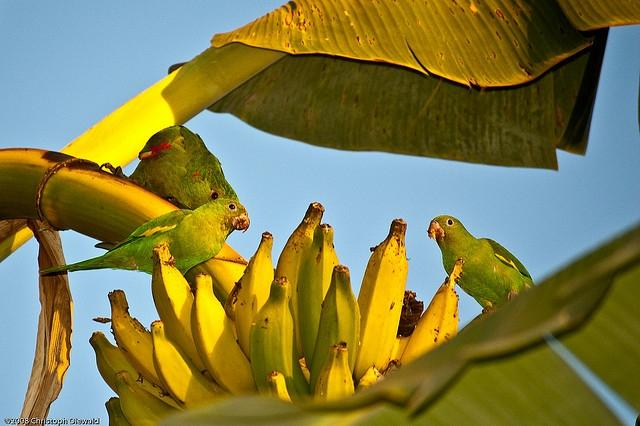banana: (152, 244, 223, 388), (354, 219, 408, 382), (190, 272, 260, 395), (249, 276, 313, 406), (88, 331, 188, 414), (392, 258, 464, 371), (150, 319, 236, 412), (275, 202, 325, 360), (108, 288, 174, 400), (309, 264, 361, 398), (298, 224, 340, 372), (234, 231, 274, 363), (115, 370, 185, 426), (313, 340, 355, 402), (389, 290, 424, 364), (264, 371, 292, 403), (356, 365, 384, 391), (105, 397, 130, 426), (298, 357, 310, 386)
